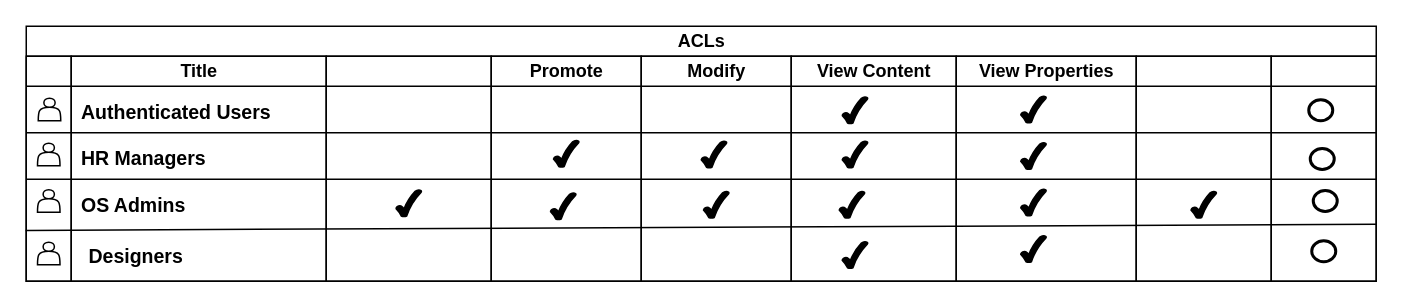
The diagram is 1406 pixels wide and 308 high, and some of its shapes have lost their labels. The box of each missing label's shape, as (x1, y1, x2, y2) in pixels:
Owner Control: (325, 55, 491, 281)
Publish: (1135, 55, 1271, 281)
Remove: (1270, 55, 1376, 281)
